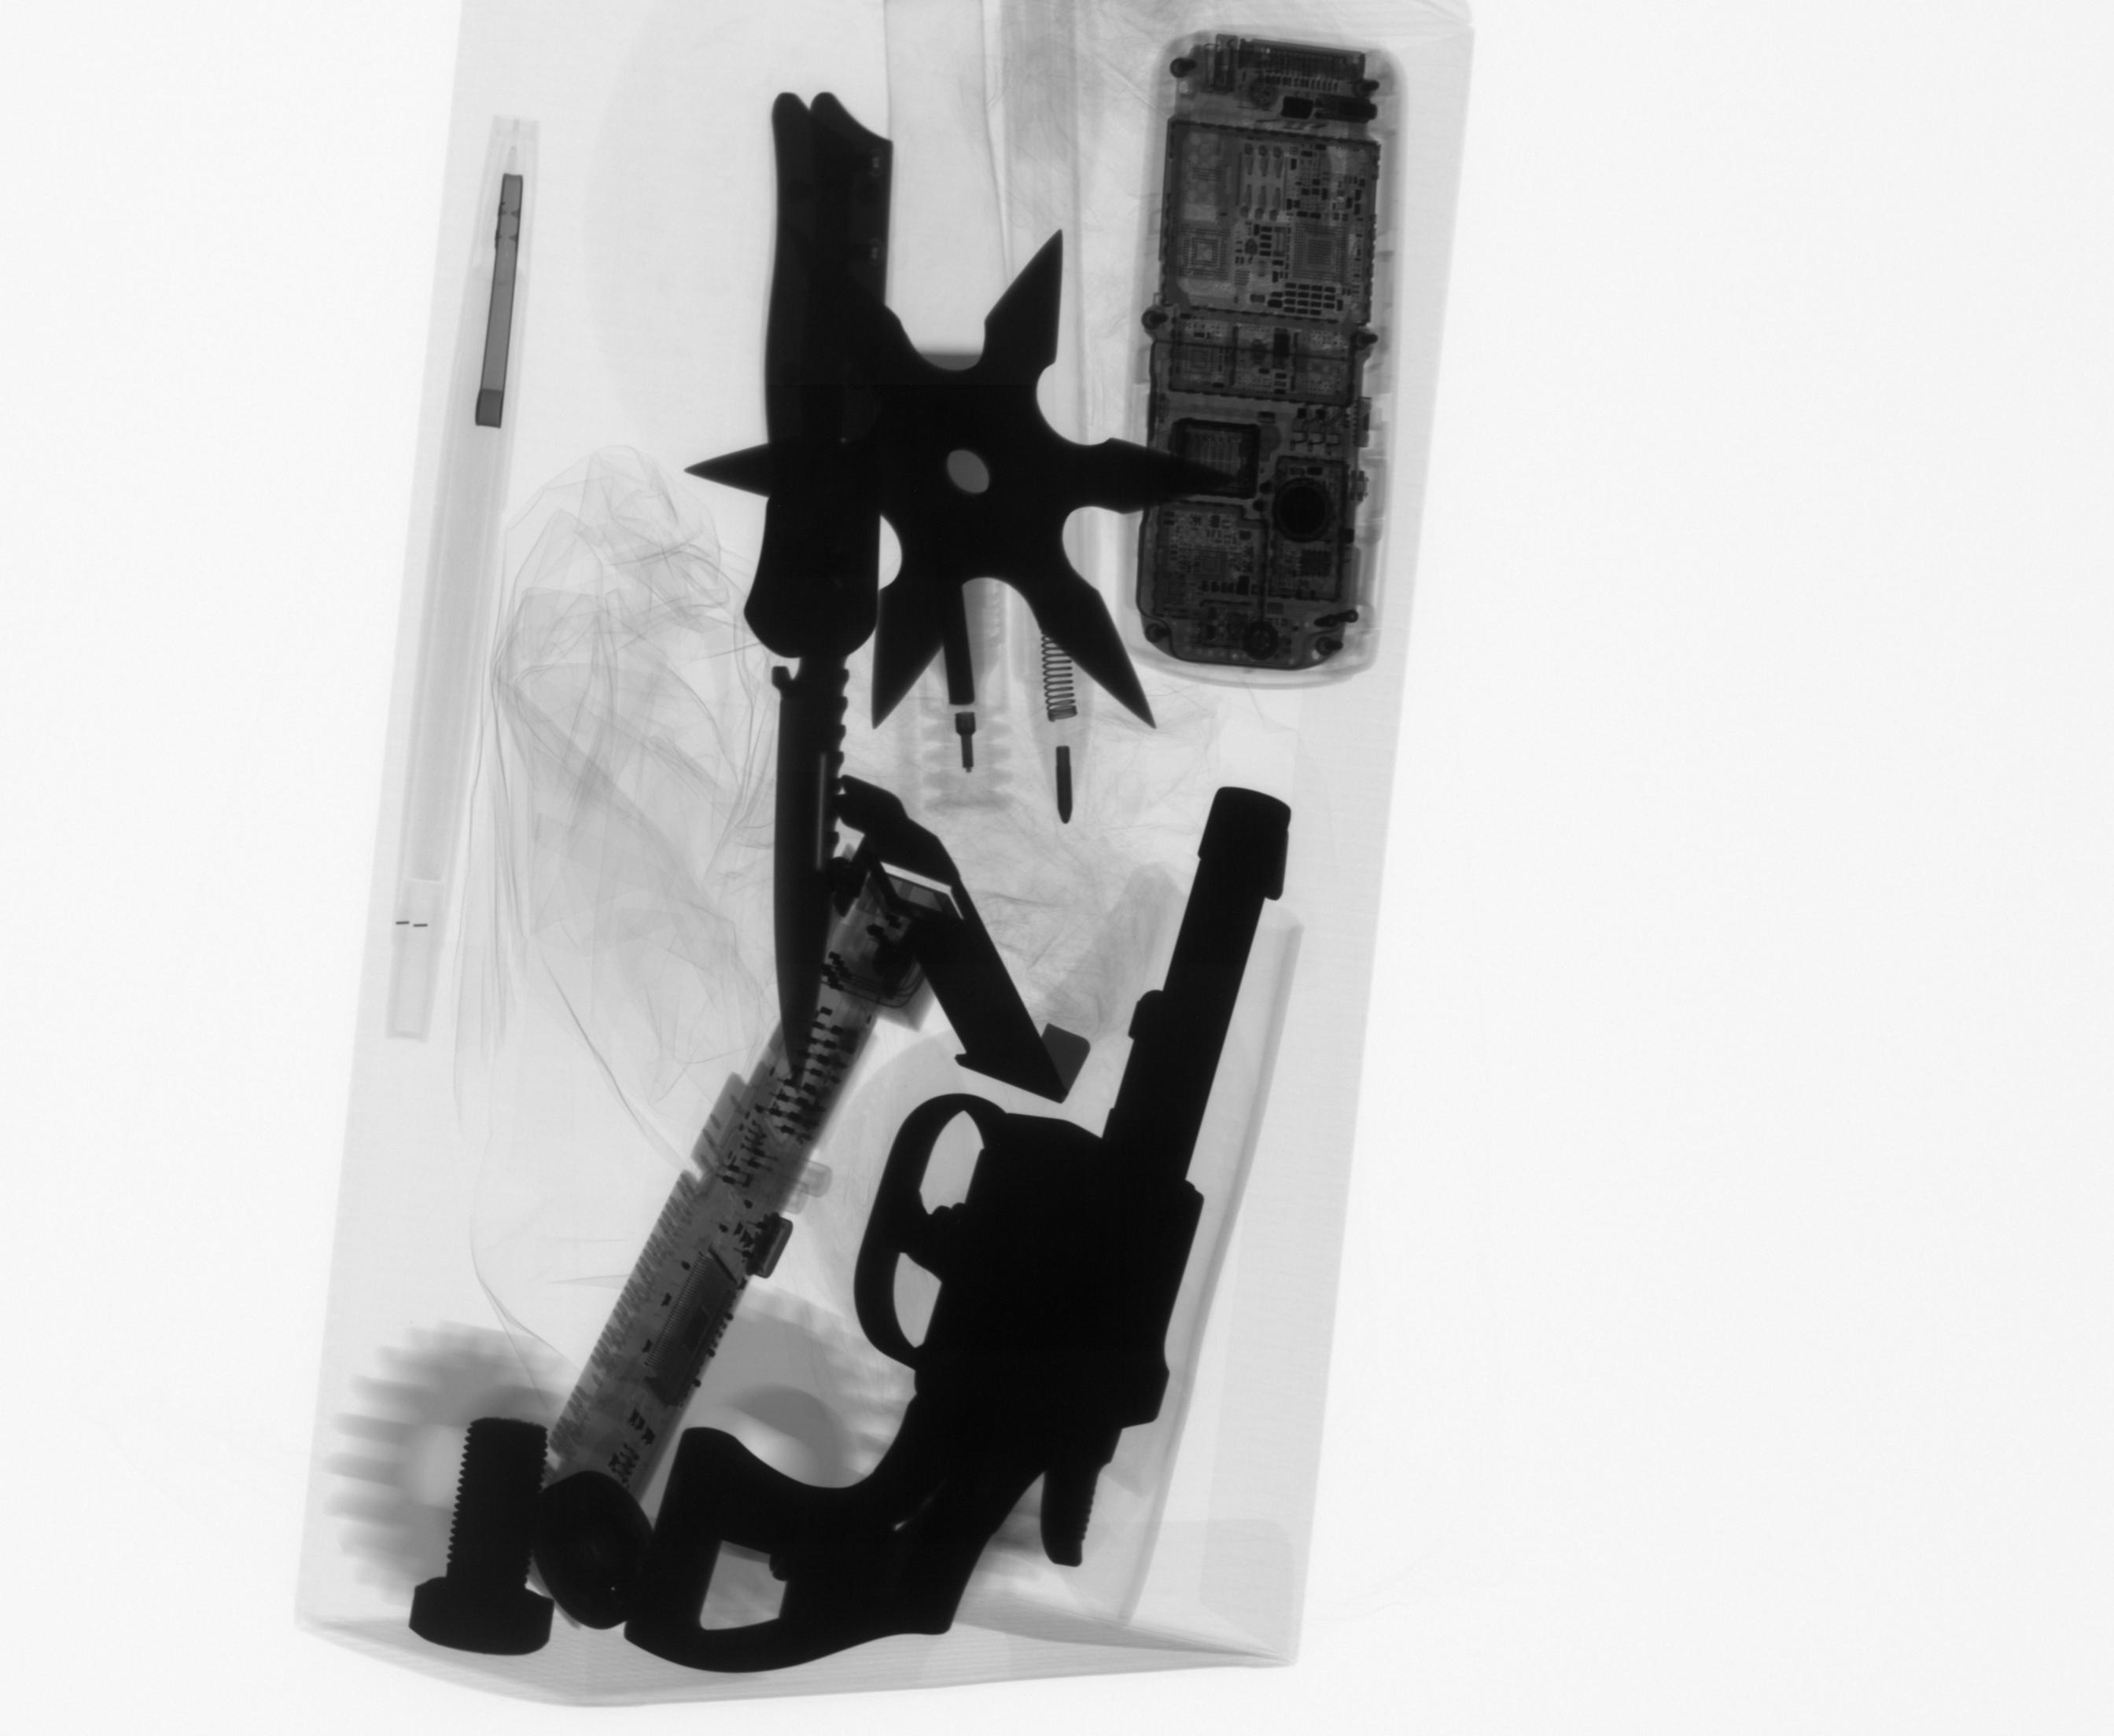Handgun: (608, 778, 1305, 1689)
Knife: (729, 81, 906, 1106)
Shuriken: (674, 221, 1259, 739)
